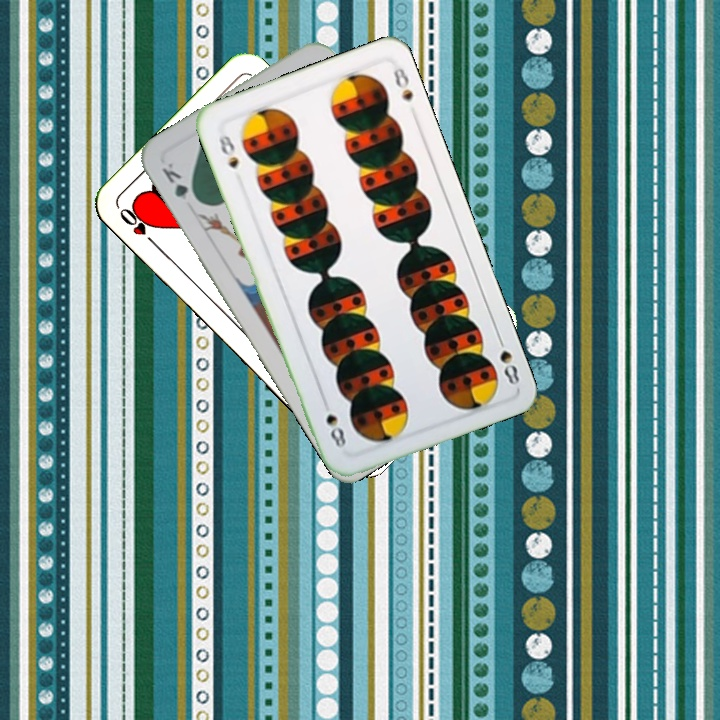GK: (158, 158, 202, 206)
HO: (115, 202, 161, 250)
S8: (493, 330, 522, 388), (214, 131, 241, 172)
